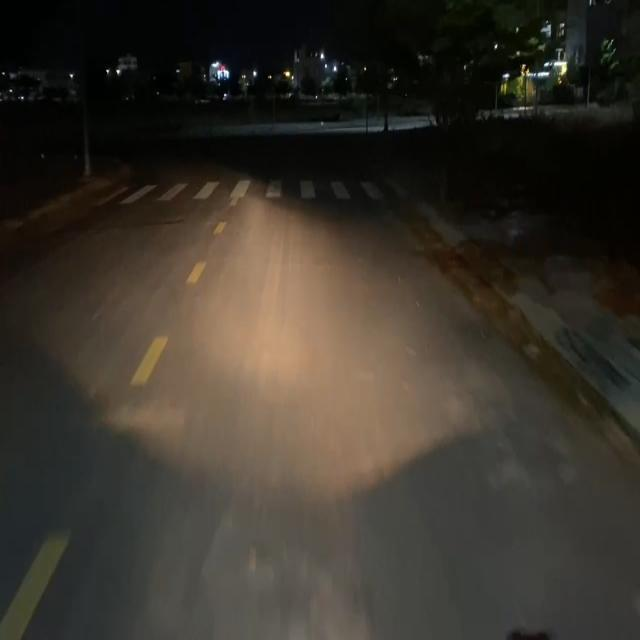walk-crossing: (92, 167, 420, 204)
